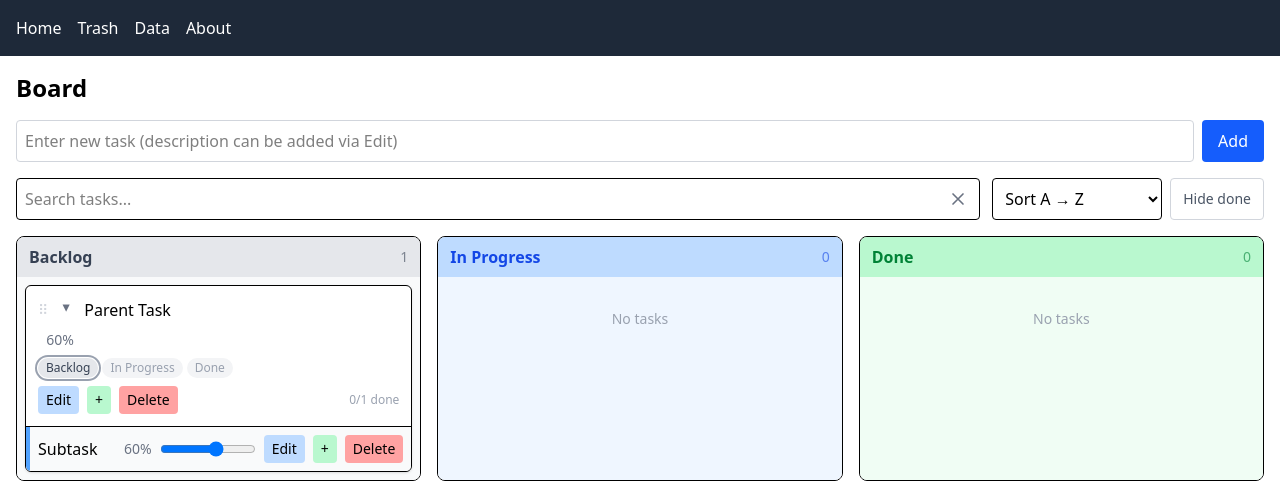
Test: collapse button hides subtasks and expand button shows them again
Expected: the text "Subtask" is shown, [38,437,98,461]
Click the button named "collapse subtasks": point(66, 308) [58,298,74,318]
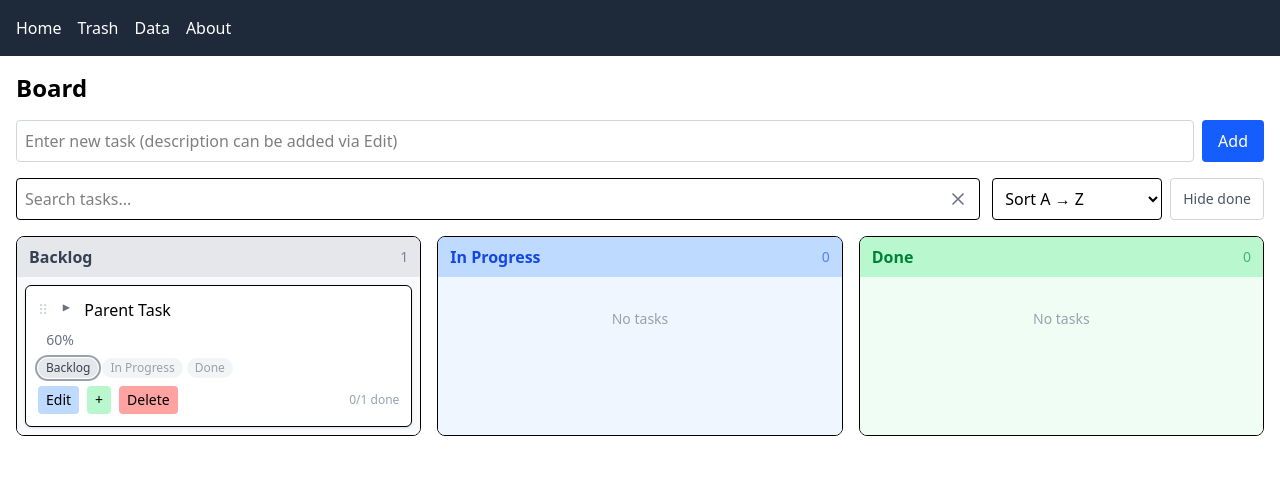
Result: the text "Subtask" is gone
Result: the button named "expand subtasks" is collapsed
Click the button named "expand subtasks": point(66, 308) [56,300,76,316]
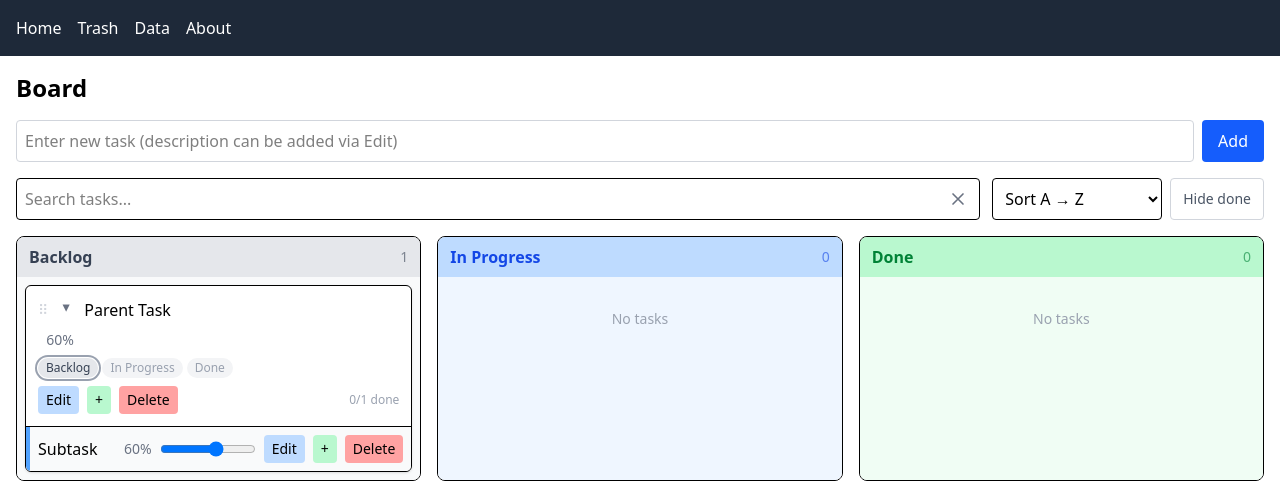
Result: the text "Subtask" is shown at [38,437,98,461]
